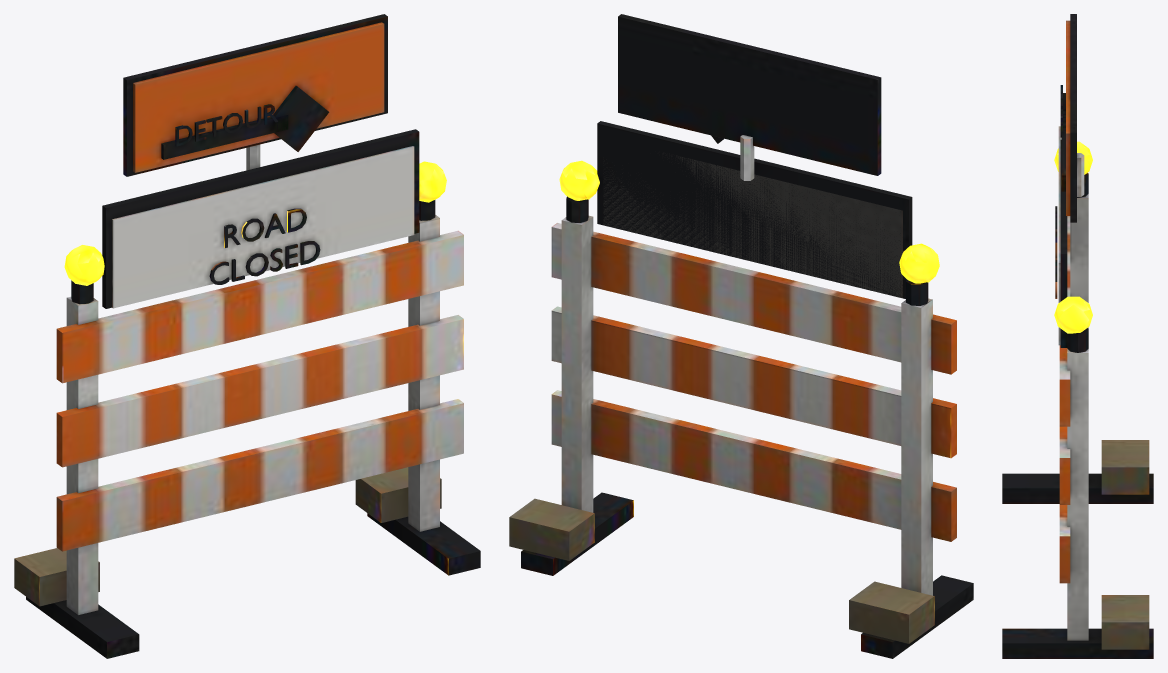
The model's file is corte_der.glb.
3 views of the same model, side by side, from view 1: azimuth 30°, elevation 25°; view 2: azimuth 150°, elevation 25°; view 3: azimuth 270°, elevation 25° (orthographic). The views are drawn at different scales.
Parts seen in each view (by area): view 1: corte_der; view 2: corte_der; view 3: corte_der.
Boxes of the visible parts, x1,y1,x2,y2 form: corte_der: [14, 14, 480, 658]; corte_der: [509, 14, 973, 658]; corte_der: [1002, 14, 1153, 658].
Bounding box in the file's own units: 2 × 2.56 × 0.7.
Materials: 1 (1 with a texture image).
